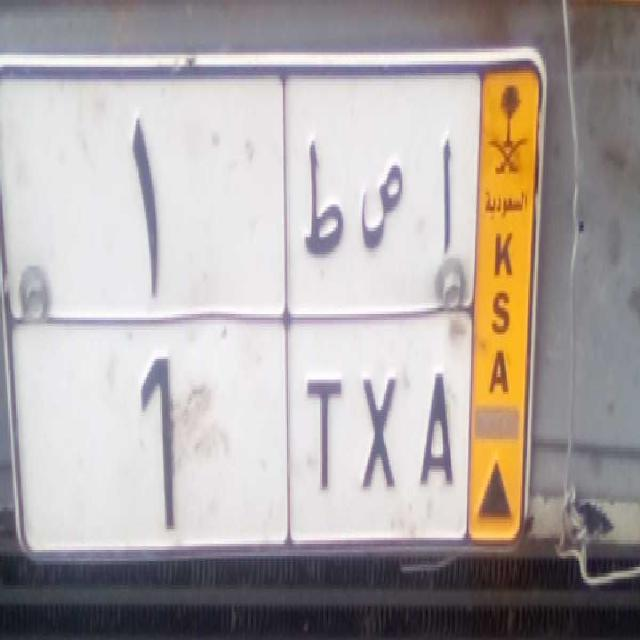license_plate: (10, 314, 471, 550)
